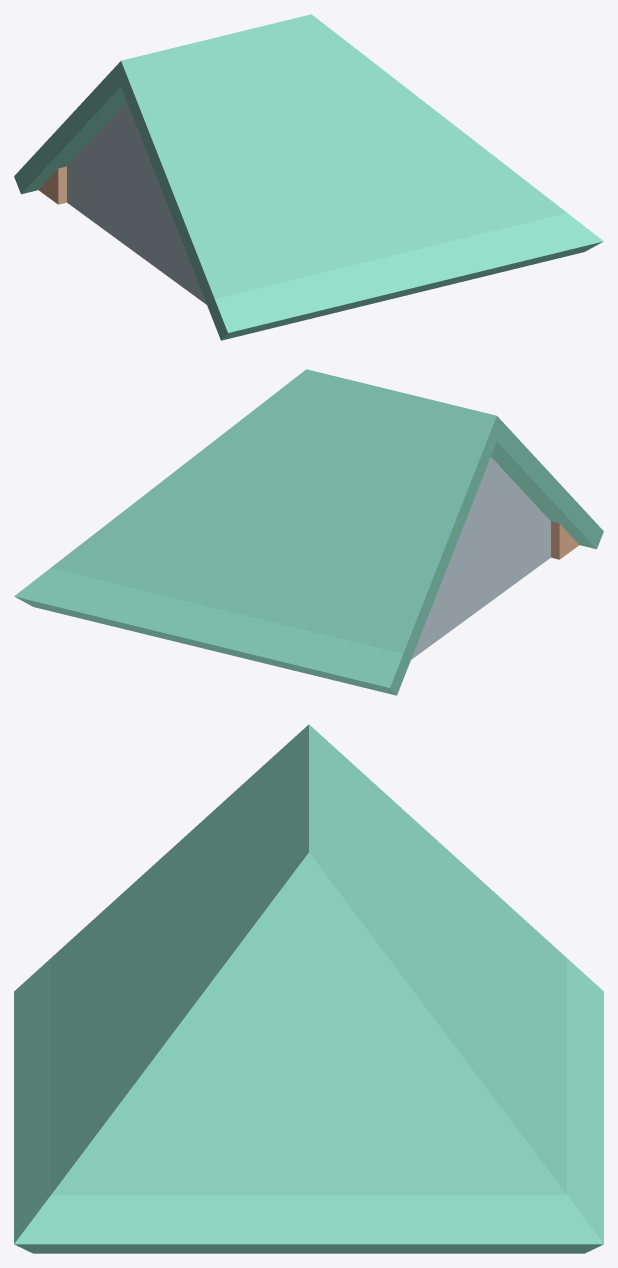
The model's file is roofGableEnd.glb.
The picture shows the model from 3 angles, top to bottom: view 1: azimuth 30°, elevation 25°; view 2: azimuth 150°, elevation 25°; view 3: azimuth 270°, elevation 25°; orthographic projection. The views are drawn at different scales.
Visible parts, largest first — view 1: roofGableEnd; view 2: roofGableEnd; view 3: roofGableEnd.
Boxes of the visible parts, left/top/right/bottom form: roofGableEnd: left=14, top=14, right=603, bottom=340; roofGableEnd: left=14, top=369, right=603, bottom=695; roofGableEnd: left=14, top=724, right=603, bottom=1253.
Bounding box in the file's own units: 1.09 × 0.5707 × 1.07.
